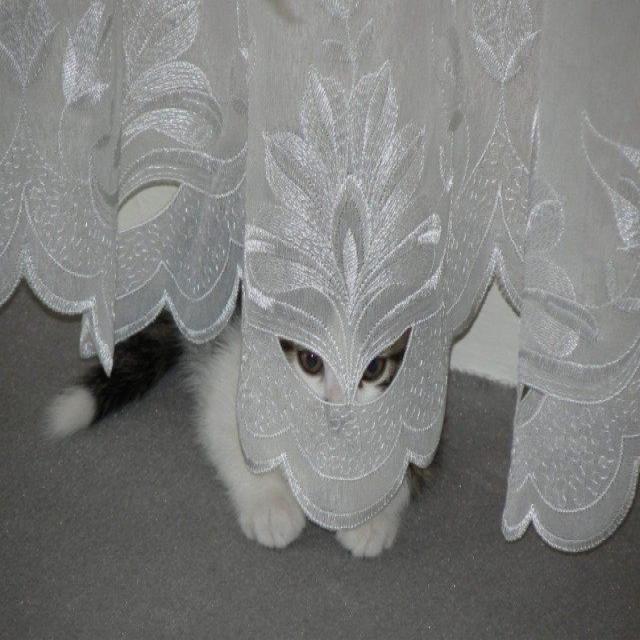cat: (284, 330, 413, 408)
